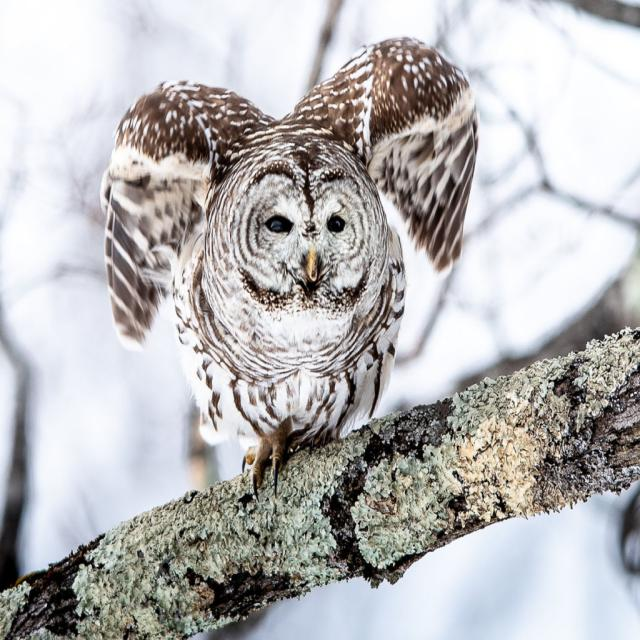Owl: (103, 47, 477, 478)
